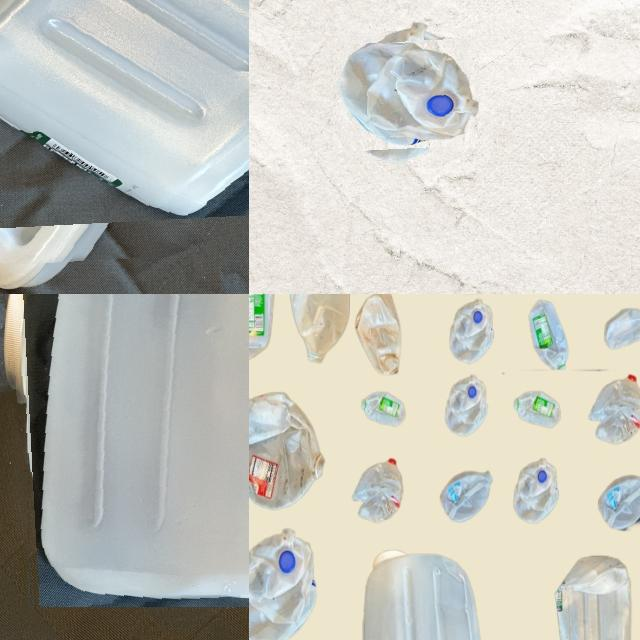milk-jug: (10, 294, 249, 601), (0, 0, 249, 266), (340, 29, 470, 160), (360, 543, 489, 640), (249, 391, 328, 507), (541, 550, 640, 640), (249, 528, 326, 640), (287, 294, 350, 366), (356, 294, 408, 376), (352, 452, 406, 522), (526, 295, 574, 373), (448, 300, 501, 366), (592, 374, 640, 446), (513, 457, 561, 529), (444, 460, 494, 527), (444, 370, 488, 440), (510, 388, 570, 437), (591, 473, 640, 529), (603, 299, 640, 361), (359, 388, 411, 428)
